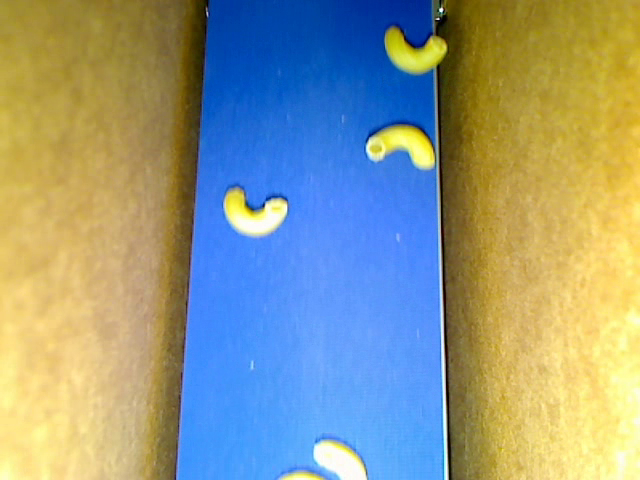elbow: (366, 122, 436, 170), (222, 187, 288, 236), (384, 27, 448, 76), (313, 439, 368, 479), (275, 469, 322, 479)
